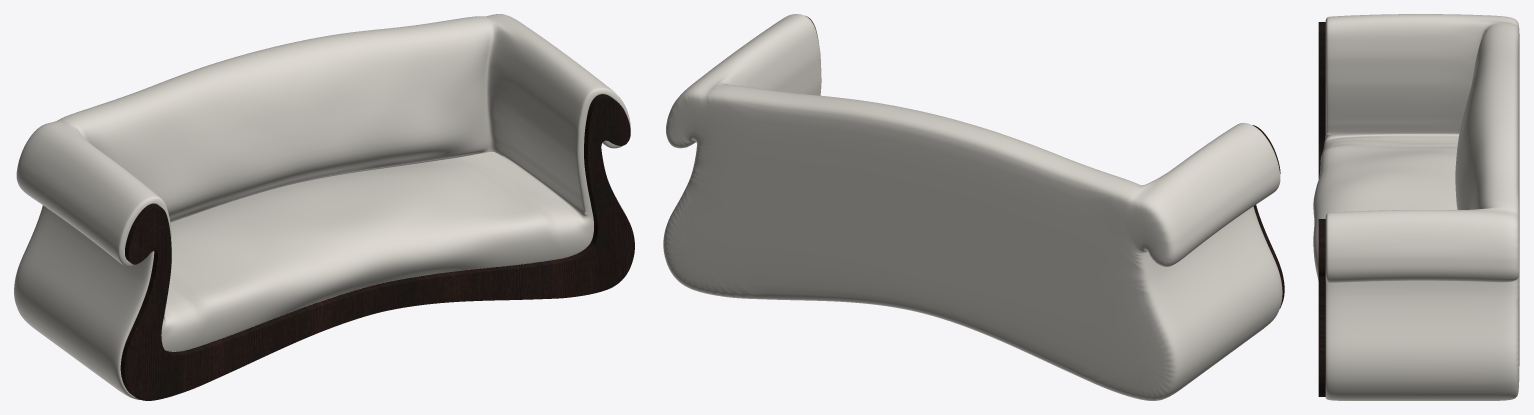
The model's file is sofa-32.glb.
The picture shows the model from 3 angles, left to right: view 1: azimuth 30°, elevation 25°; view 2: azimuth 150°, elevation 25°; view 3: azimuth 270°, elevation 25°; orthographic projection. The views are drawn at different scales.
Visible parts, largest first — view 1: Tricani Sofa_skinn_01_0, Wood_Material #33_0; view 2: Tricani Sofa_skinn_01_0; view 3: Tricani Sofa_skinn_01_0, Wood_Material #33_0.
Boxes of the visible parts, x1,y1,x2,y2 form: Tricani Sofa_skinn_01_0: (14, 14, 630, 399); Wood_Material #33_0: (120, 94, 634, 400); Tricani Sofa_skinn_01_0: (663, 14, 1282, 400); Tricani Sofa_skinn_01_0: (1313, 14, 1519, 400); Wood_Material #33_0: (1318, 22, 1325, 396).
Size of the model in its own units: 15.07 by 6.26 by 5.78.
2 materials, 1 textured.
